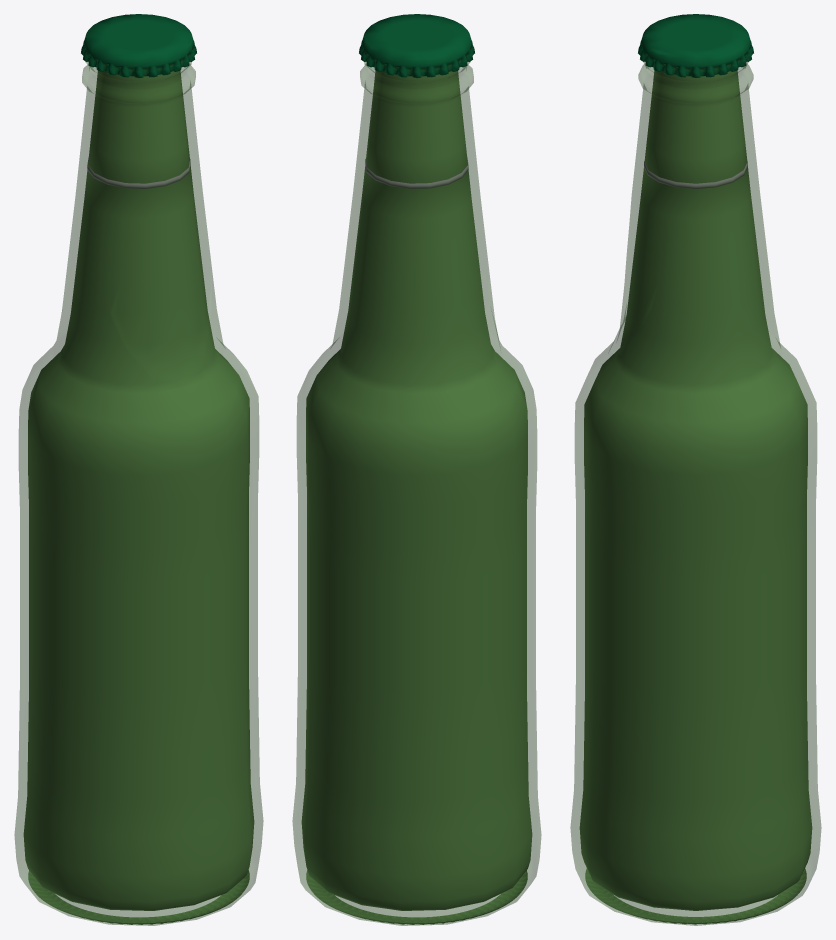
The model's file is glassBottle.glb.
The picture shows the model from 3 angles, left to right: view 1: azimuth 30°, elevation 25°; view 2: azimuth 150°, elevation 25°; view 3: azimuth 270°, elevation 25°; orthographic projection.
Visible parts, largest first — view 1: GARRAFA; view 2: GARRAFA; view 3: GARRAFA.
Part boxes in pixels (bbox=[...]): GARRAFA: bbox=[14, 14, 263, 925]; GARRAFA: bbox=[292, 14, 541, 925]; GARRAFA: bbox=[570, 14, 821, 925].
Bounding box in the file's own units: 12.73 × 47.38 × 12.73.
